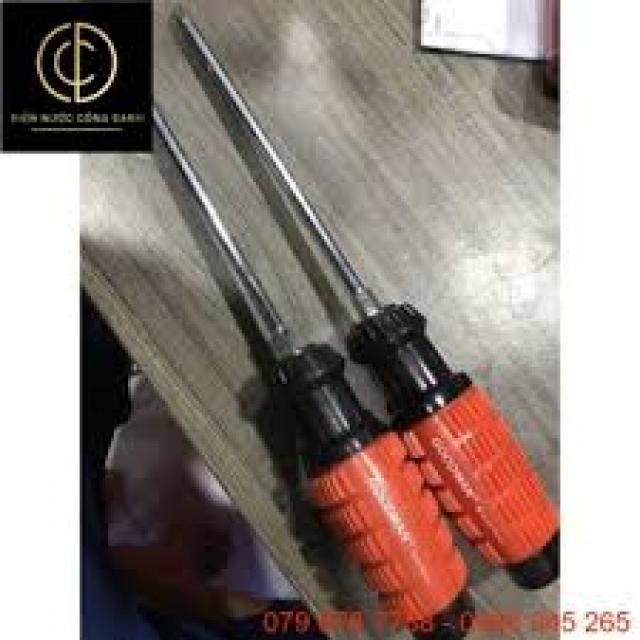screwdriver: (171, 1, 564, 588)
